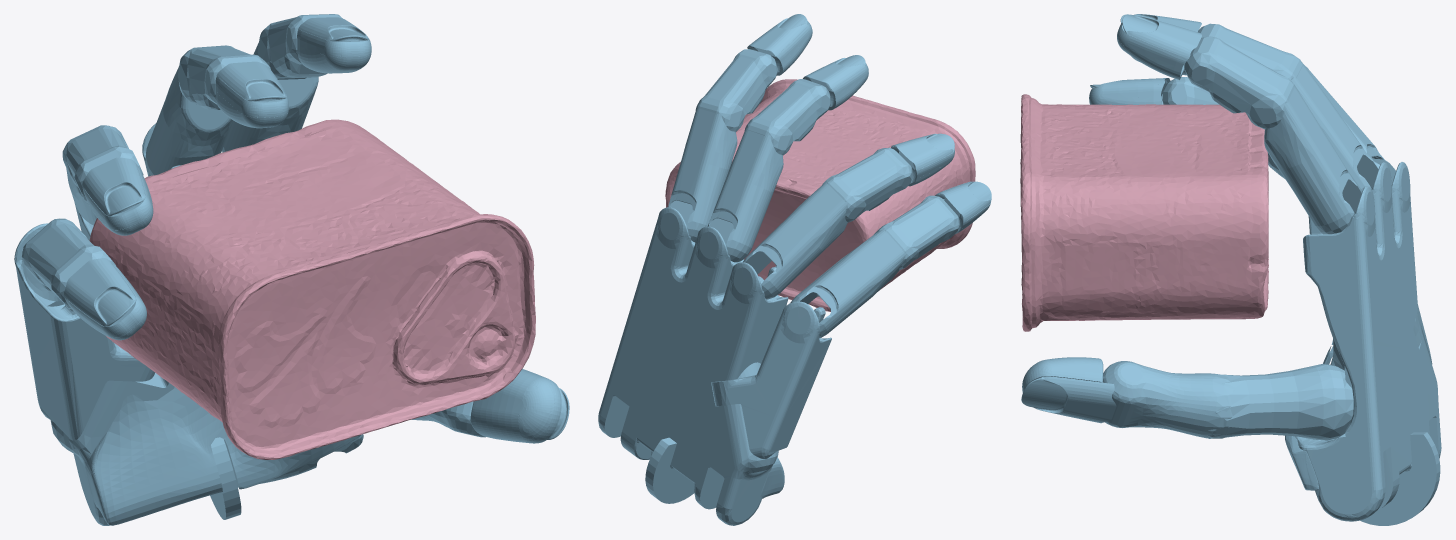
3 renders of one model, left to right at view 1: azimuth 30°, elevation 25°; view 2: azimuth 150°, elevation 25°; view 3: azimuth 270°, elevation 25°, orthographic. The views are drawn at different scales.
Parts seen in each view (by area): view 1: potted_meat_can.stl, world; view 2: world, potted_meat_can.stl; view 3: world, potted_meat_can.stl.
Boxes of the visible parts, <box> form: potted_meat_can.stl: <box>89,119,535,459</box>; world: <box>14,14,569,525</box>; world: <box>598,14,991,525</box>; potted_meat_can.stl: <box>665,79,975,311</box>; world: <box>1021,14,1441,525</box>; potted_meat_can.stl: <box>1020,94,1268,331</box>.
Size of the model in its own units: 0.1369 by 0.1844 by 0.1416.
